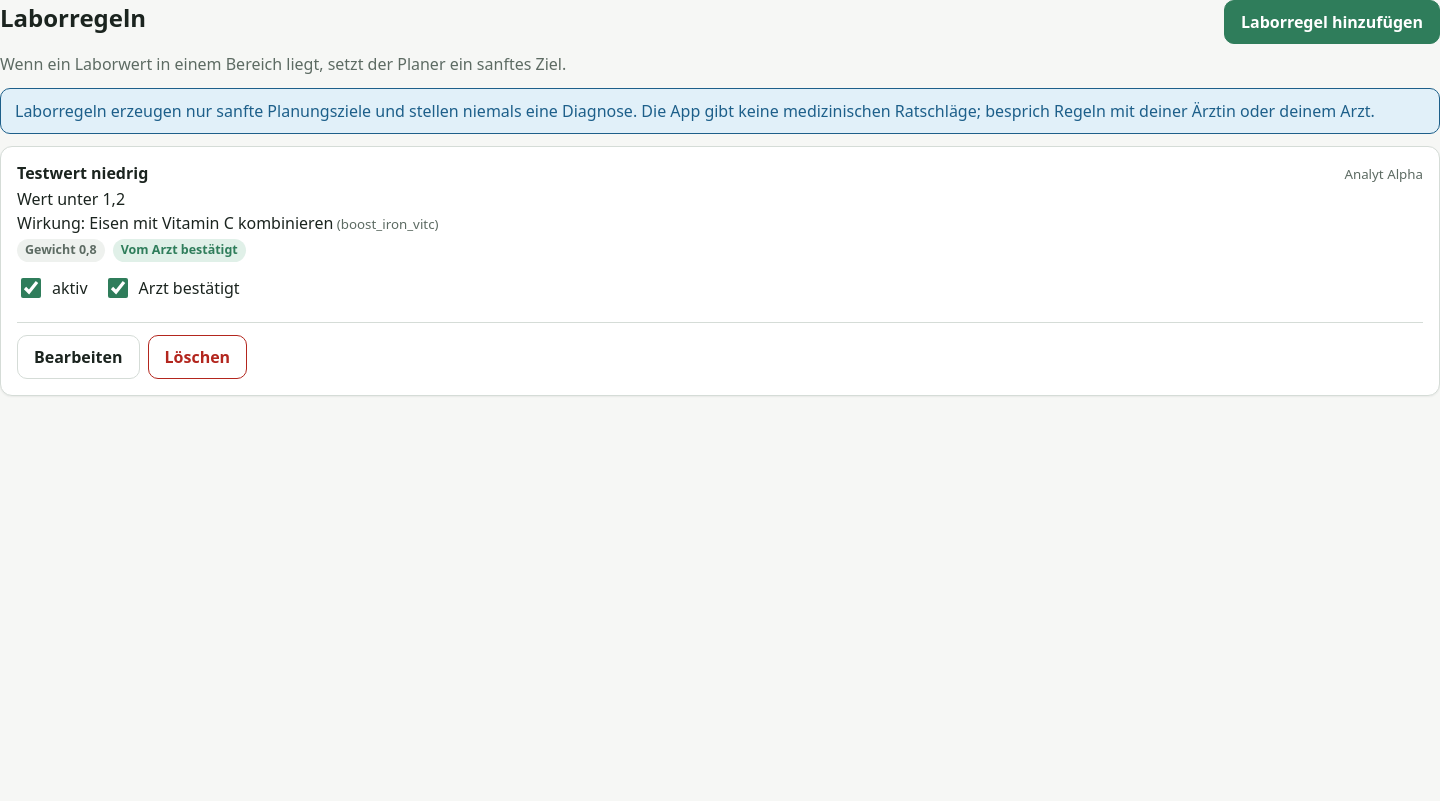
Test: Laborregeln › legt „kleiner als“ mit threshold_high an
Click the button "Laborregel hinzufügen" at [1332, 22], box [1224,0,1439,44]
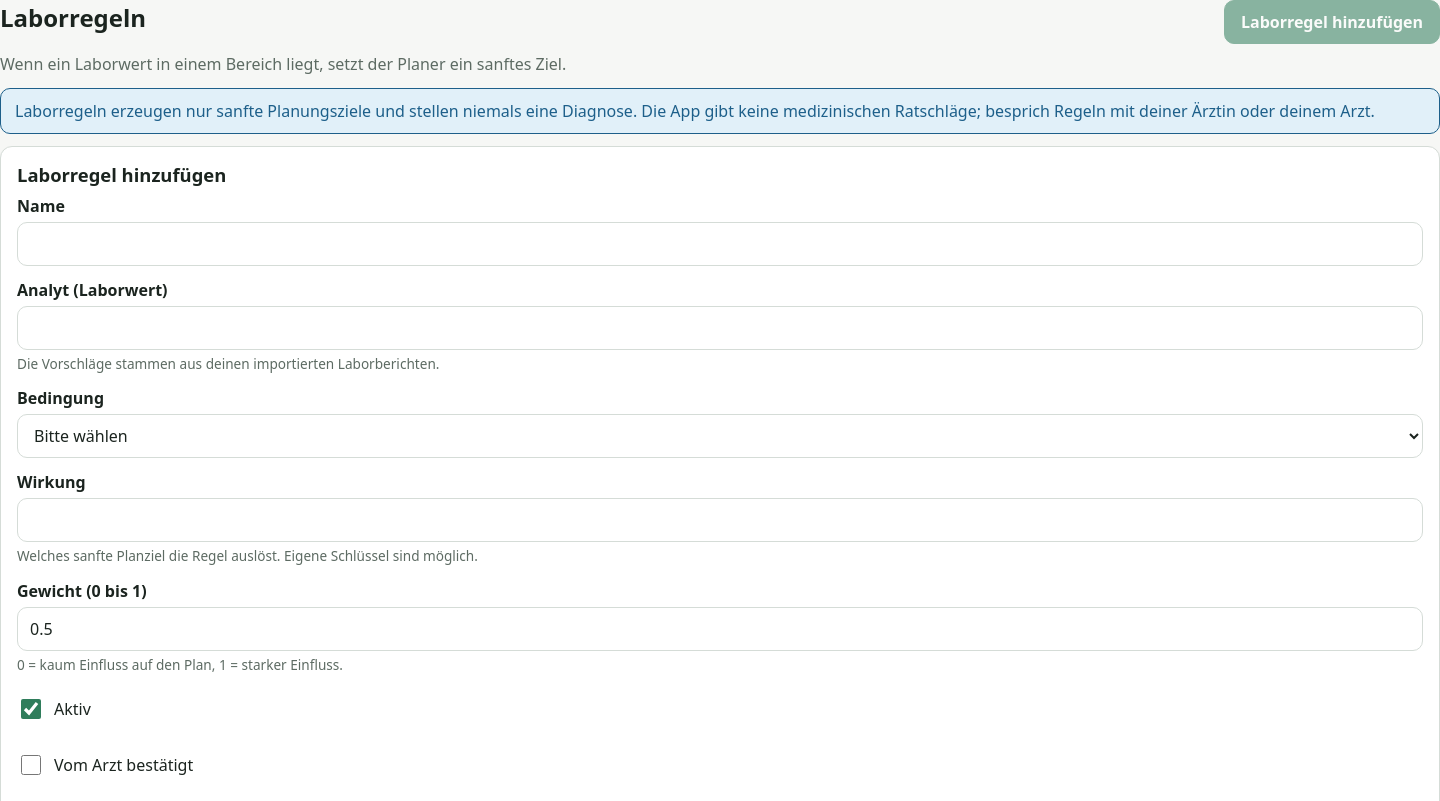
Type "Neue Regel" into the field labelled "Name" at [720, 244], box [17,222,1423,266]
Type "Analyt Eta" into the field labelled "Analyt (Laborwert)" at [720, 328], box [17,306,1423,350]
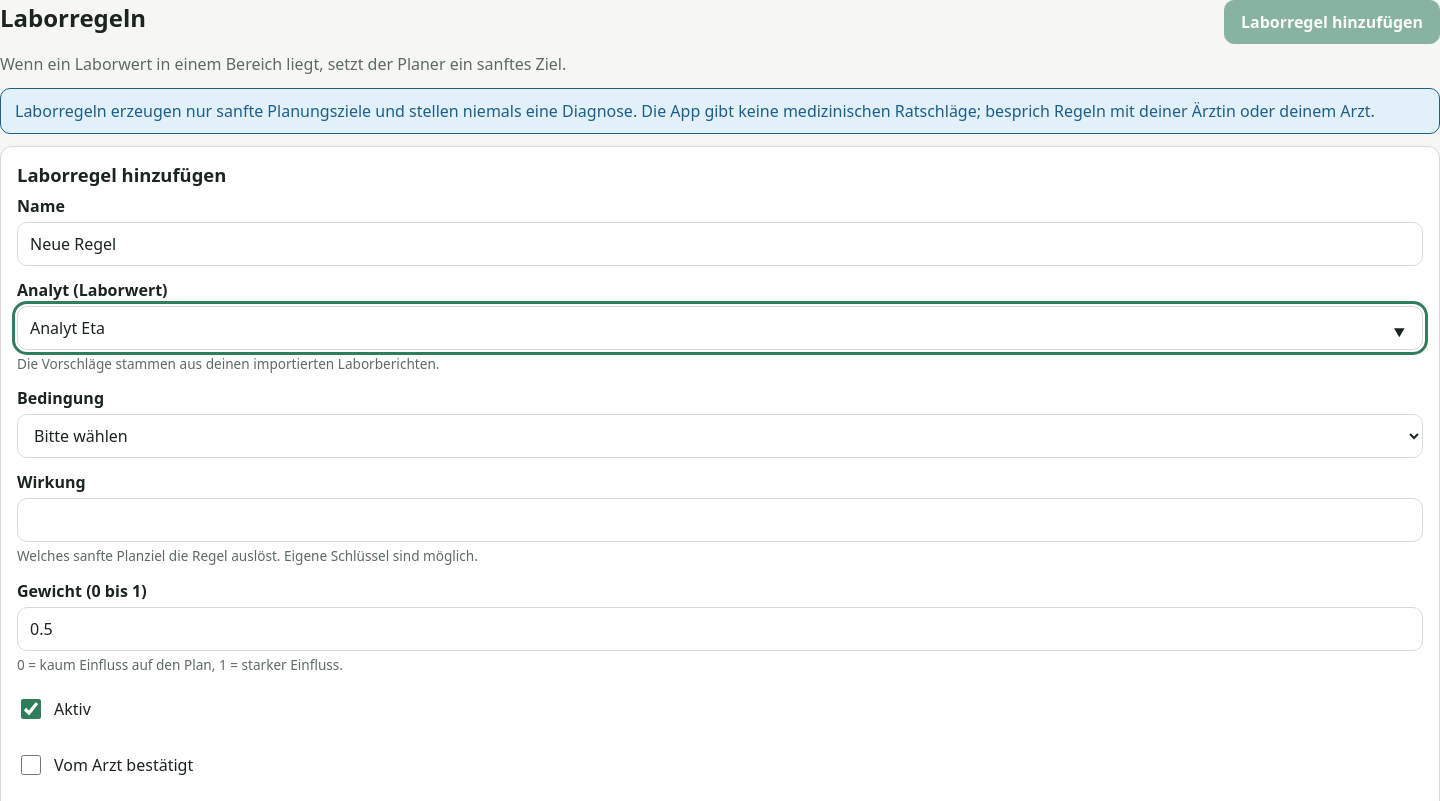
Type "boost_fiber" into the field labelled "Wirkung" at [720, 520], box [17,498,1423,542]
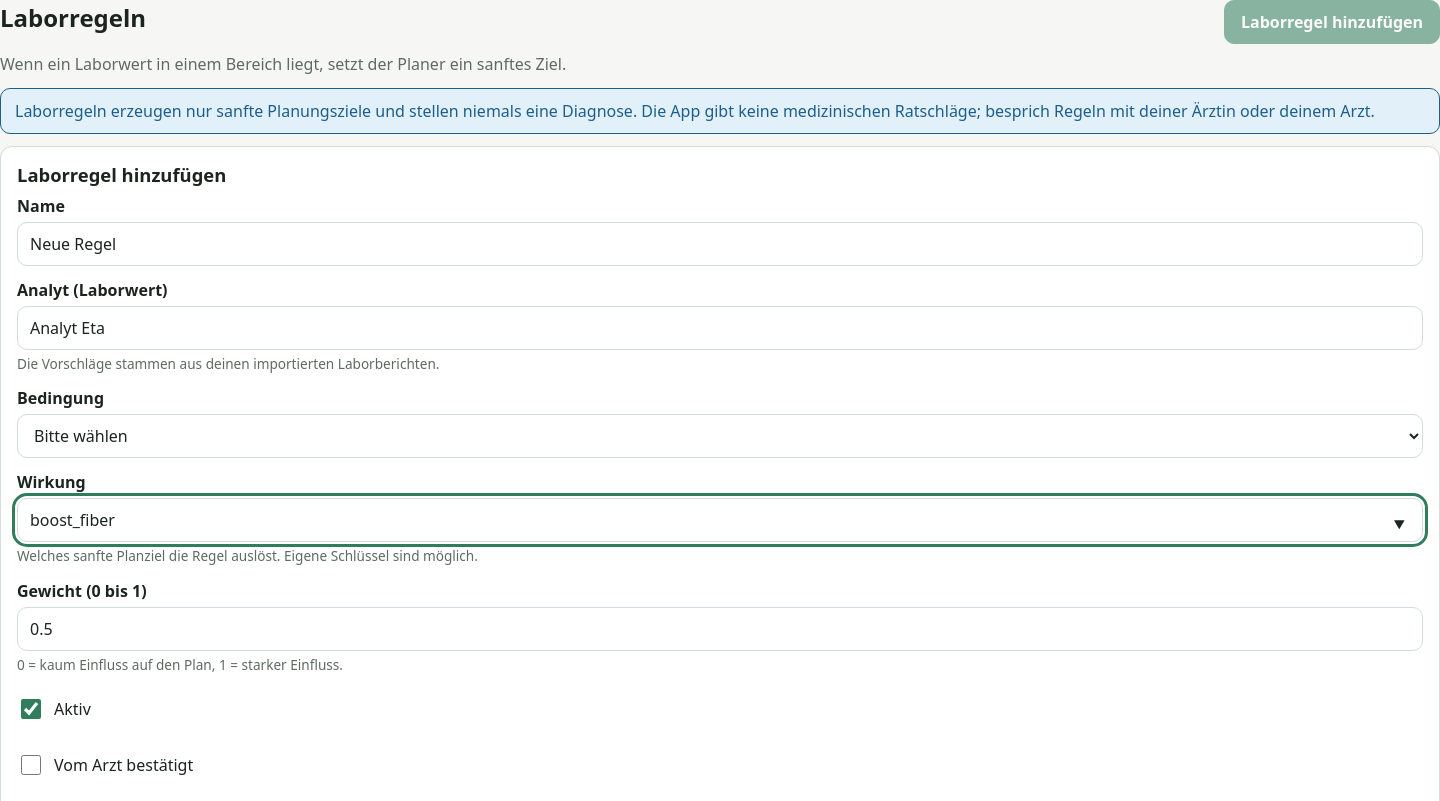
Select "kleiner als" in the dropdown labelled "Bedingung" at [720, 436], box [17,414,1423,458]
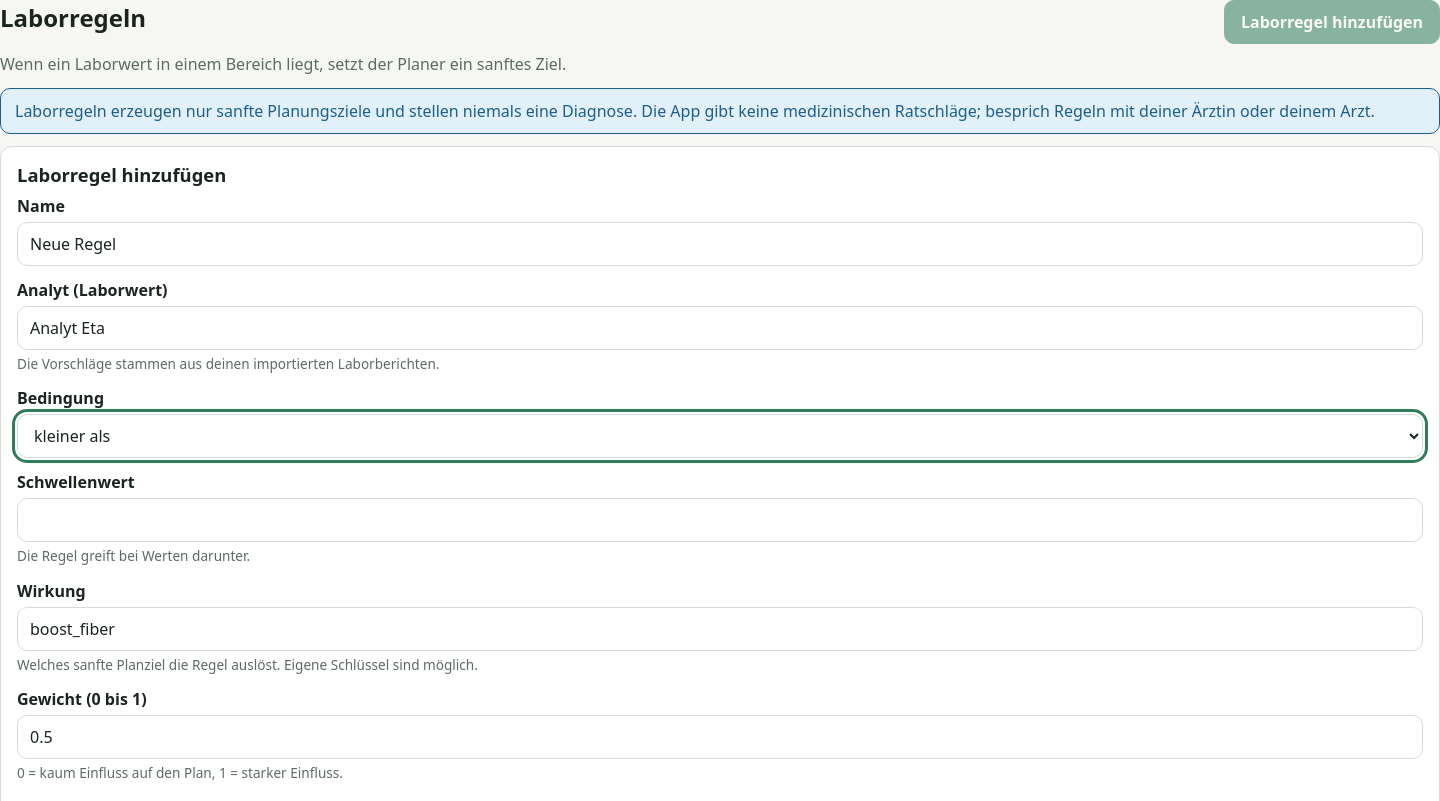
Type "1.5" into the number field labelled "Schwellenwert" at [720, 520], box [17,498,1423,542]
(page scrolled)
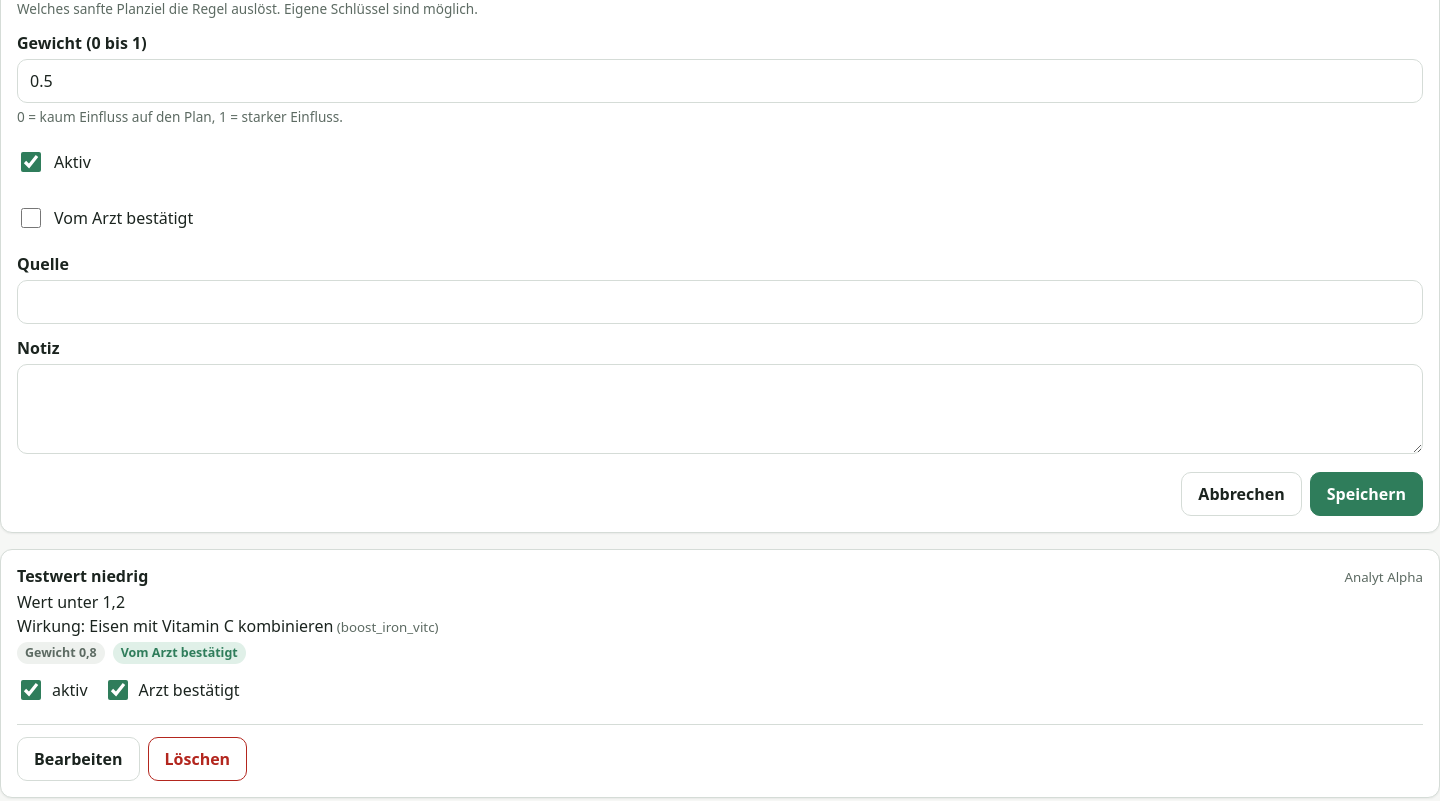
Click the button "Speichern" at [1366, 494], box [1310,472,1423,516]
(page scrolled)
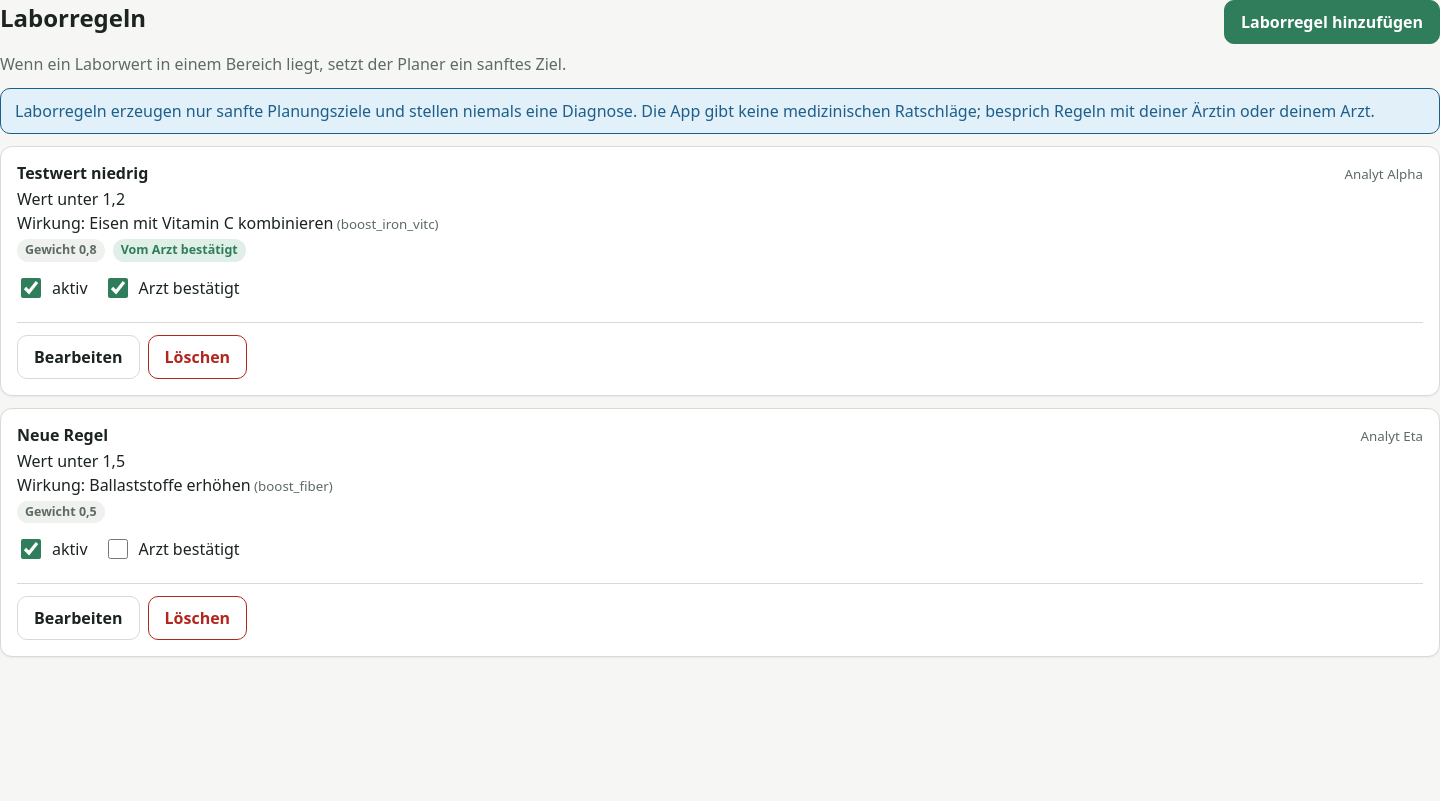
expect the heading "Neue Regel" is shown: met, box [17,425,108,445]
